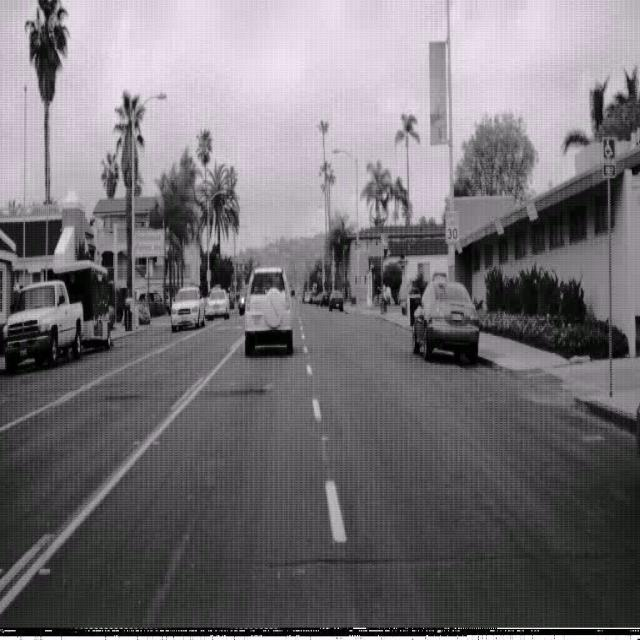speedLimit30: (444, 208, 460, 244)
